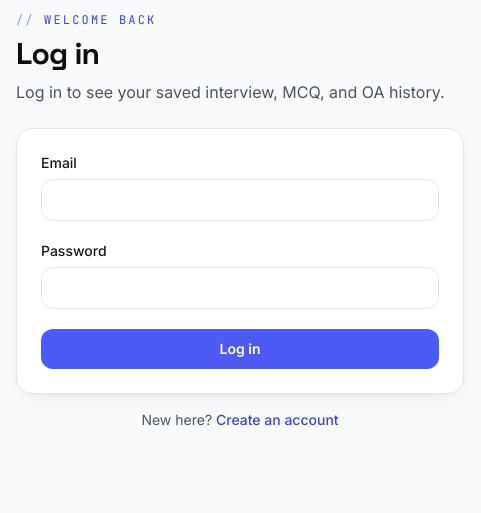
shows an error when login fails
This screenshot has width=481, height=513.
Type "a@b.com" into the field labelled "Email" at (240, 200), box [41,179,439,221]
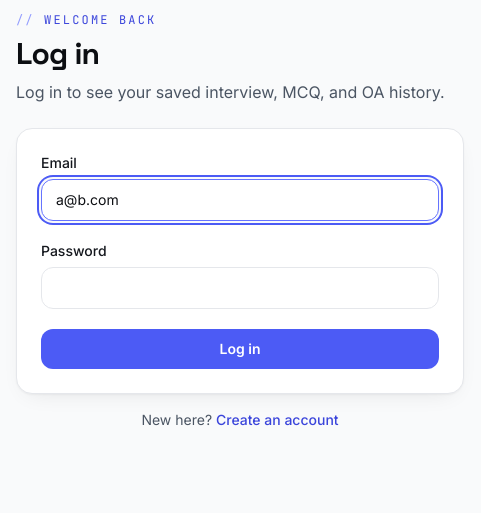
Type "wrongpass" into the password field labelled "Password" at (240, 288), box [41,267,439,309]
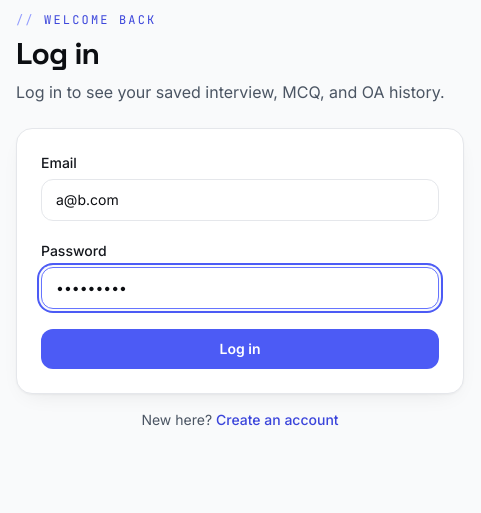
Click the button "Log in" at (240, 349), box [41,329,439,369]
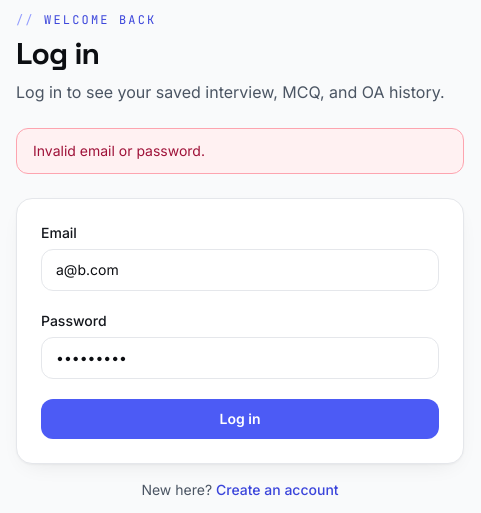
Check: the text "Invalid email or password." is shown, box [16,128,464,174]
